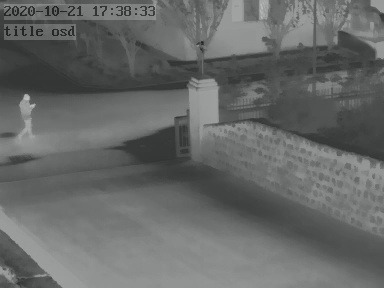person: (18, 92, 35, 138)
